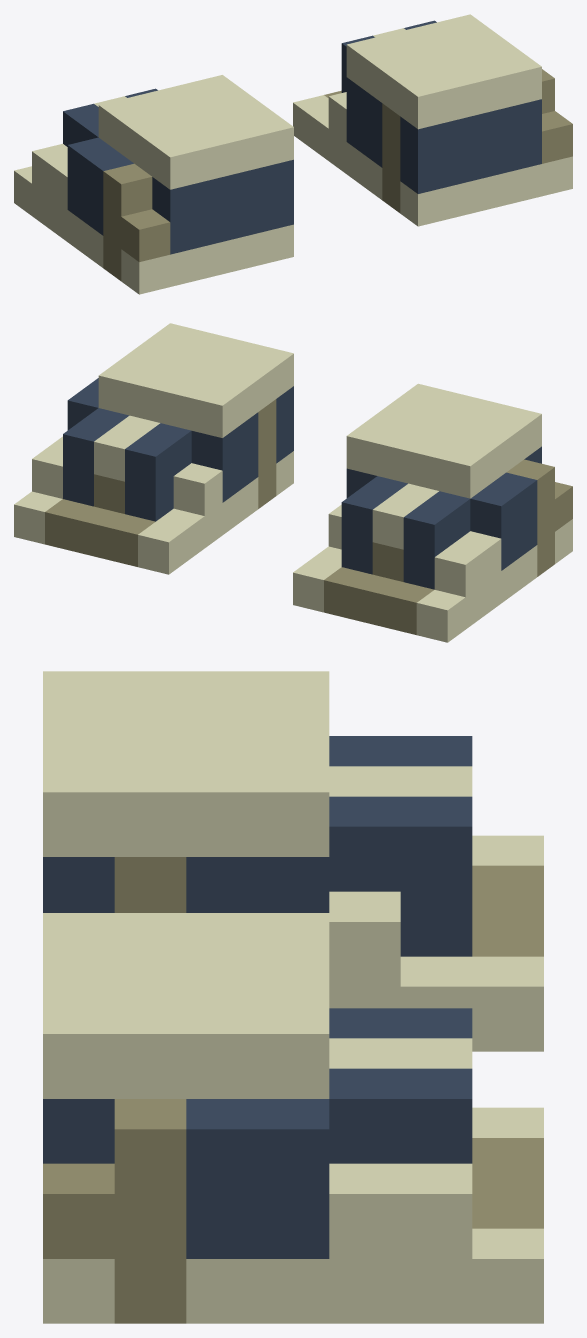
The model's file is anubis_voxB-1-feet.obj.
The picture shows the model from 3 angles, top to bottom: view 1: azimuth 30°, elevation 25°; view 2: azimuth 150°, elevation 25°; view 3: azimuth 270°, elevation 25°; orthographic projection. The views are drawn at different scales.
Parts seen in each view (by area): view 1: feet; view 2: feet; view 3: feet.
Boxes of the visible parts, x1,y1,x2,y2 form: feet: (14,14,572,294); feet: (14,323,572,642); feet: (43,671,543,1323).
Size of the model in its own units: 1.4 by 0.4 by 0.7.
1 material, 1 textured.
